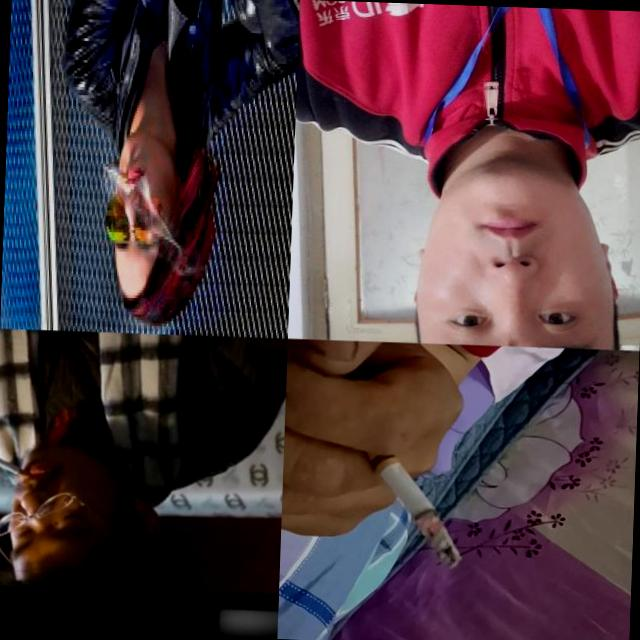smoke: (357, 430, 465, 570), (0, 451, 33, 481), (101, 160, 128, 183)
